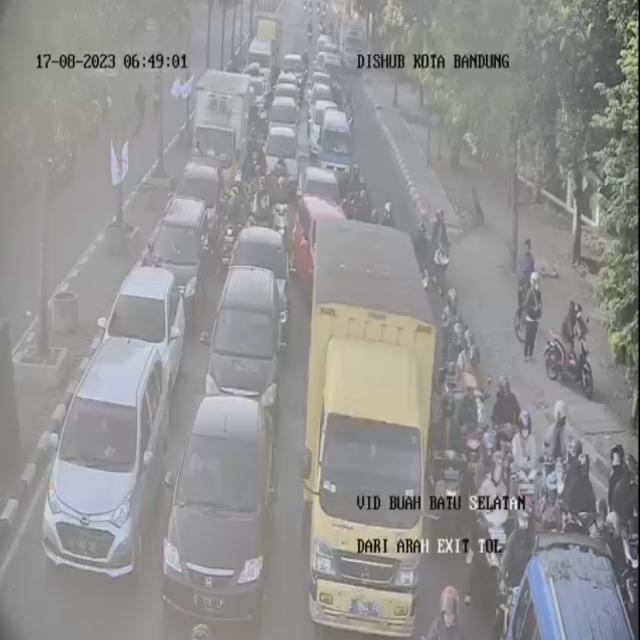cars: (158, 390, 280, 636), (40, 336, 160, 573), (517, 540, 631, 640), (210, 264, 278, 416), (111, 264, 187, 382), (144, 193, 210, 315), (288, 197, 348, 280), (239, 234, 288, 330), (173, 163, 224, 248), (315, 104, 351, 175), (260, 122, 298, 184), (305, 160, 341, 220), (247, 62, 267, 121), (265, 92, 297, 125), (281, 49, 307, 74), (278, 80, 301, 102), (310, 84, 329, 109)
motorcycle: (542, 280, 596, 392), (418, 388, 457, 521), (472, 454, 507, 578), (601, 445, 636, 543), (430, 568, 466, 640), (485, 372, 522, 440), (426, 203, 453, 293), (542, 402, 570, 487), (562, 436, 596, 502), (454, 373, 477, 463), (519, 407, 540, 502), (267, 169, 292, 244), (436, 284, 459, 361), (463, 326, 484, 402), (228, 160, 256, 213), (216, 201, 236, 272), (411, 214, 430, 274), (247, 116, 263, 160), (346, 164, 363, 197), (384, 195, 398, 227)
truck: (312, 216, 436, 634), (188, 70, 250, 186), (256, 12, 284, 72)
